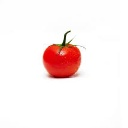tomato: (42, 44, 84, 78)
